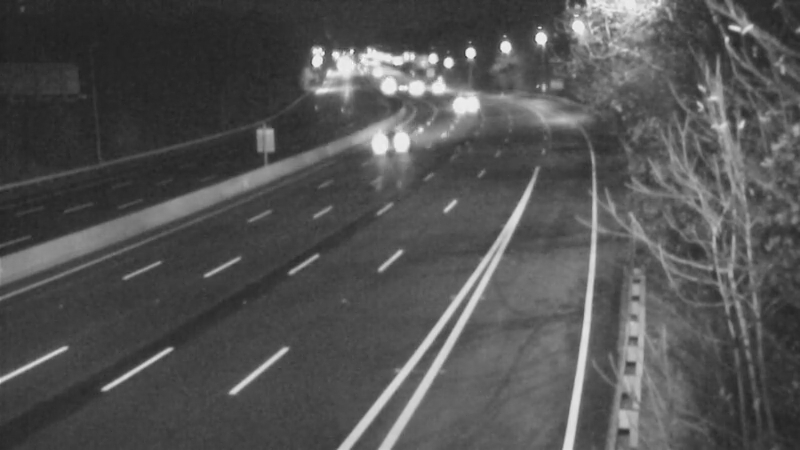vehicle: (414, 64, 464, 114), (387, 63, 437, 113), (374, 63, 424, 113), (362, 62, 412, 112), (434, 79, 484, 129), (370, 116, 420, 166)
